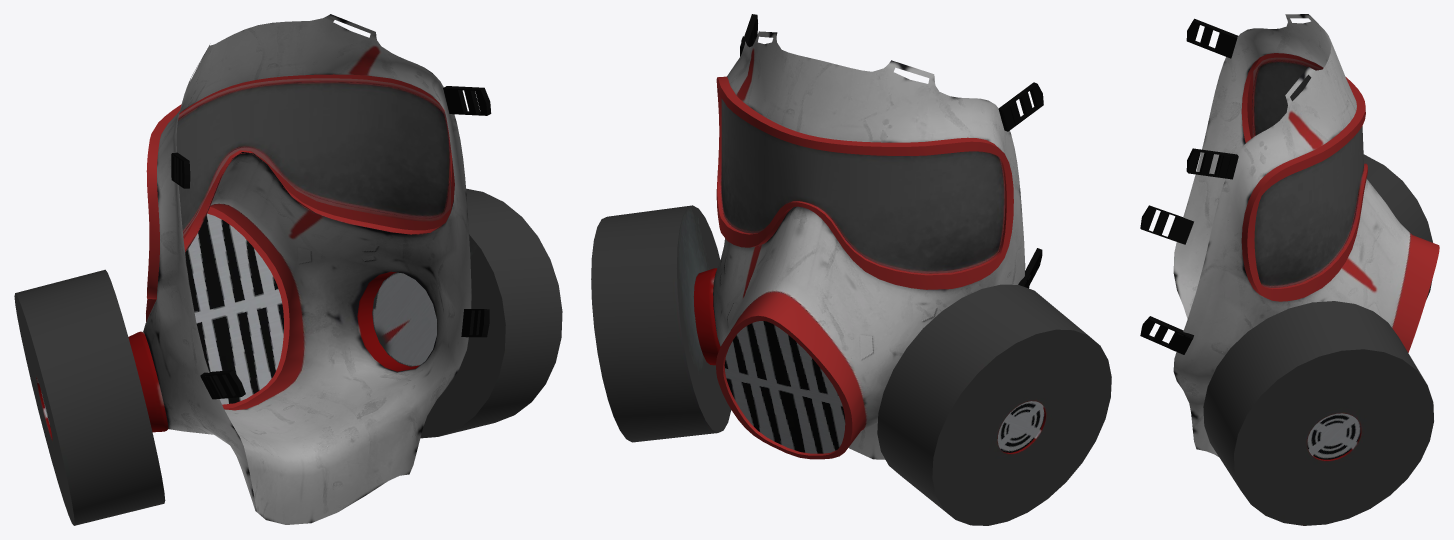
The model's file is gas_mask_white.glb.
3 views of the same model, side by side, from view 1: azimuth 30°, elevation 25°; view 2: azimuth 150°, elevation 25°; view 3: azimuth 270°, elevation 25° (orthographic). The views are drawn at different scales.
Visible parts, largest first — view 1: gas_mask_white_1, gas_mask_white_0; view 2: gas_mask_white_1, gas_mask_white_0; view 3: gas_mask_white_1, gas_mask_white_0.
Boxes of the visible parts, x1,y1,x2,y2 form: gas_mask_white_1: (14, 14, 562, 525); gas_mask_white_0: (171, 86, 491, 399); gas_mask_white_1: (591, 31, 1111, 525); gas_mask_white_0: (740, 14, 1043, 288); gas_mask_white_1: (1173, 14, 1439, 525); gas_mask_white_0: (1140, 18, 1238, 354).
Size of the model in its own units: 0.289 by 0.2526 by 0.1644.
2 materials, 1 textured.
